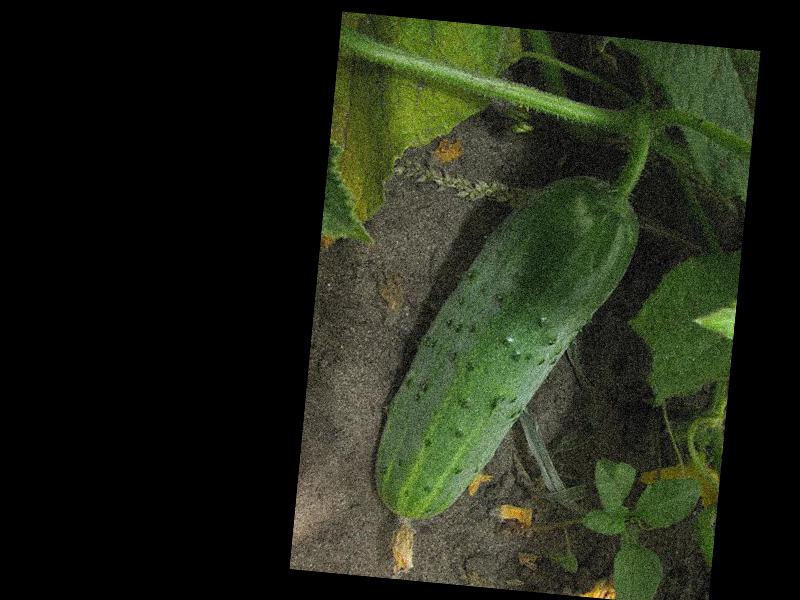Cucumber: (363, 159, 643, 593)
